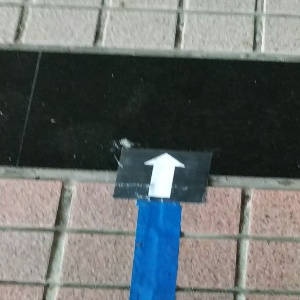straight: (113, 147, 212, 202)
